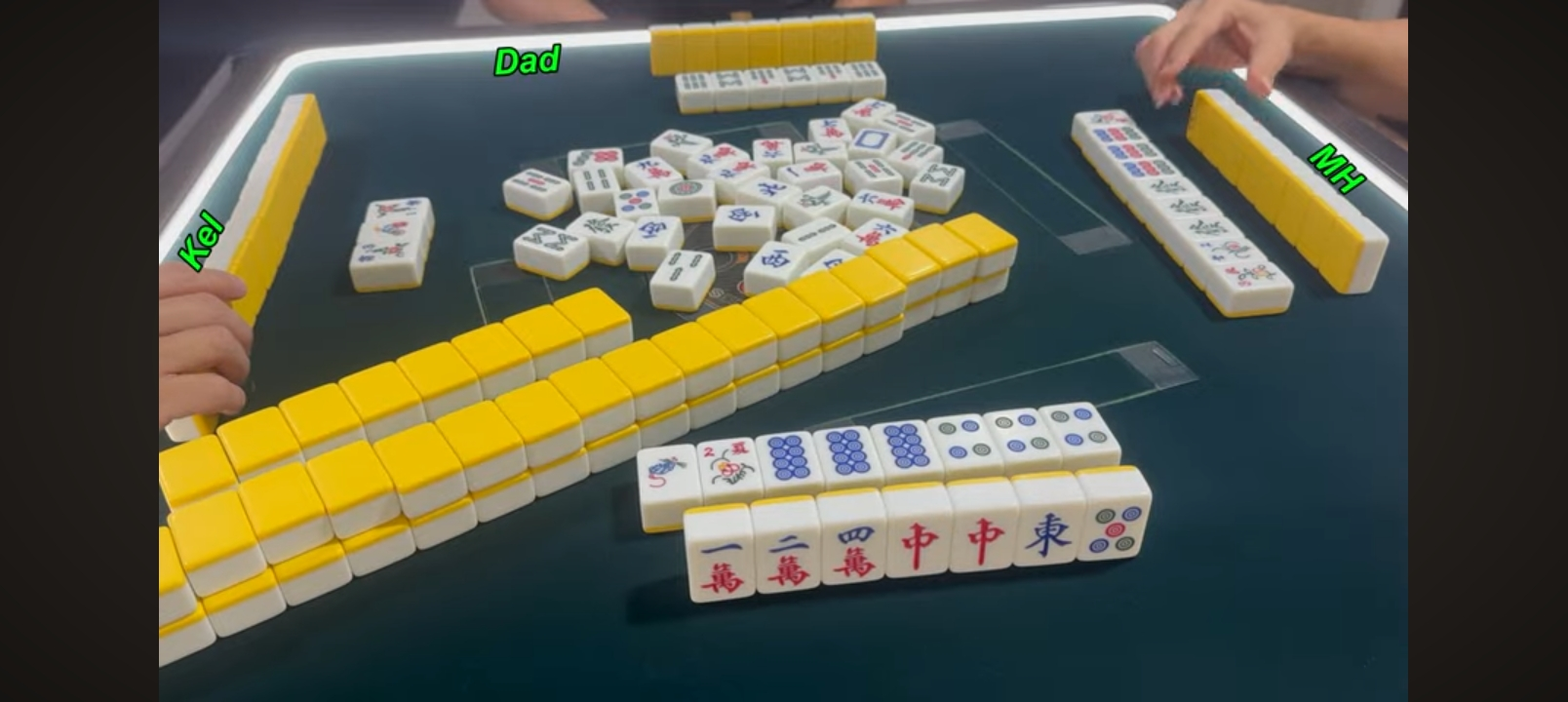TILE: (1084, 496, 1151, 561), (686, 537, 754, 601), (1017, 502, 1086, 564), (820, 520, 885, 585), (752, 530, 820, 592), (884, 514, 952, 576), (953, 508, 1018, 572), (638, 443, 700, 502), (697, 438, 761, 495), (1049, 403, 1120, 453), (758, 429, 819, 487), (872, 420, 933, 474), (932, 413, 994, 466), (818, 426, 873, 481), (994, 410, 1052, 461)
